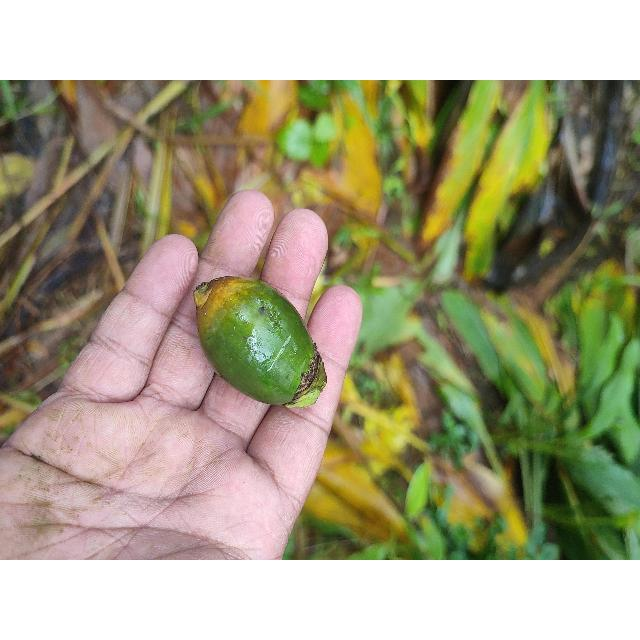good: (191, 277, 326, 408)
